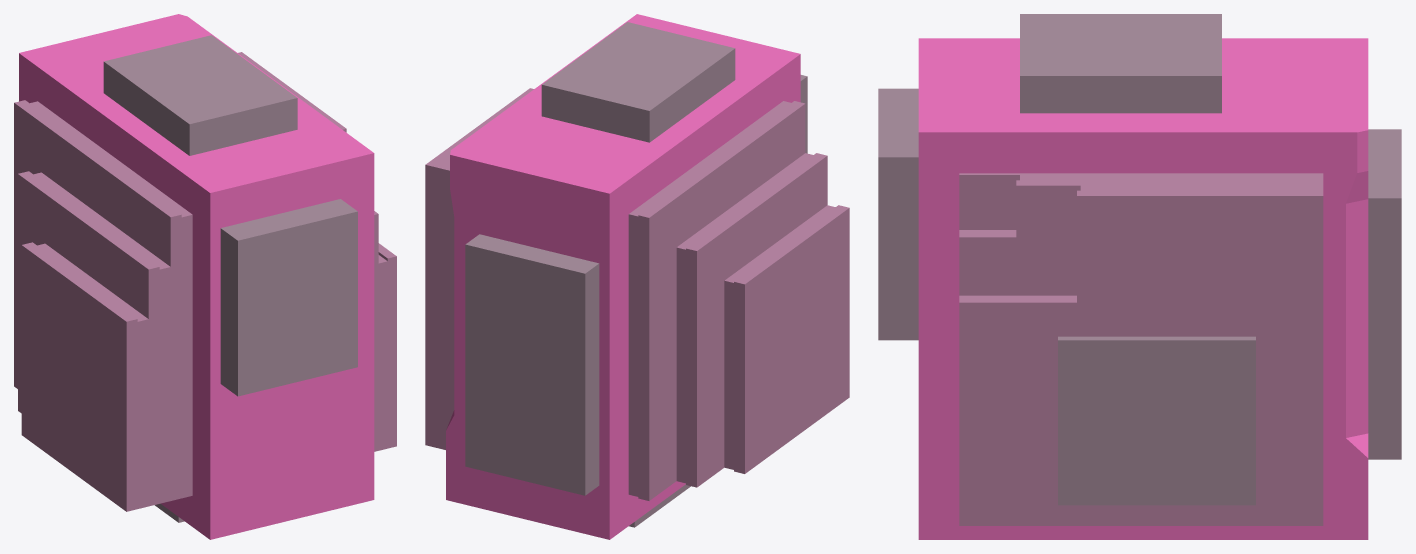
File: planet_square_magenta.glb
The picture shows the model from 3 angles, left to right: view 1: azimuth 30°, elevation 25°; view 2: azimuth 150°, elevation 25°; view 3: azimuth 270°, elevation 25°; orthographic projection. The views are drawn at different scales.
Parts seen in each view (by area): view 1: floor_corner_inner, stairs_half_corner, block (×2), stairs_half_corner_inner; view 2: stairs_half_corner, floor_corner_inner, block (×2), stairs_half_corner_inner; view 3: stairs_half_corner_inner, floor_corner_inner, block (×4).
Part boxes in pixels (x1=…): floor_corner_inner: x1=19, y1=14, x2=374, y2=539; stairs_half_corner: x1=14, y1=100, x2=192, y2=511; block (×2): x1=103, y1=35, x2=357, y2=396; stairs_half_corner_inner: x1=238, y1=52, x2=396, y2=451; stairs_half_corner: x1=628, y1=101, x2=849, y2=500; floor_corner_inner: x1=446, y1=14, x2=800, y2=539; block (×2): x1=465, y1=22, x2=735, y2=495; stairs_half_corner_inner: x1=425, y1=88, x2=533, y2=449; stairs_half_corner_inner: x1=959, y1=173, x2=1323, y2=525; floor_corner_inner: x1=918, y1=38, x2=1368, y2=539; block (×4): x1=878, y1=14, x2=1401, y2=505.
Bounding box in the file's own units: 0.835 × 1.14 × 1.16.
